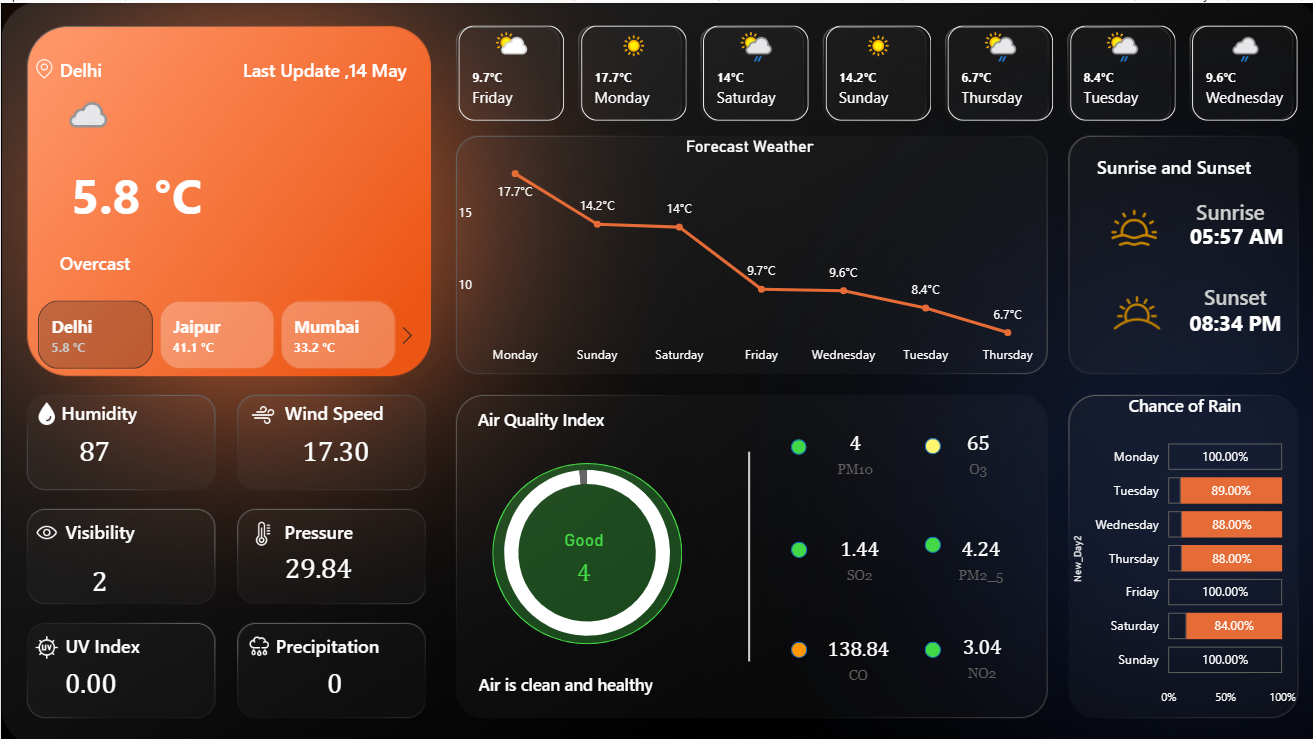

This screenshot's page, from the dashboard's own definition file:
{"tool":"powerbi","page":{"name":"Page 1","canvas":[1280,720],"ordinal":0},"visuals":[{"type":"shape","box":[474.1,444,183.4,174.9],"z":0},{"type":"advancedSlicerVisual","fields":{"Values":["Locations.location.name"]},"box":[11,282.7,396.6,76.8],"z":1000},{"type":"shape","box":[0,135.8,262.1,96.1],"z":2000},{"type":"shape","box":[56.3,231.9,279.9,37],"z":3000},{"type":"shape","box":[216.8,45.3,190.7,37],"z":4000},{"type":"shape","box":[56.3,45.3,179.8,37],"z":5000},{"type":"image","box":[32,52,18,23],"z":6000},{"type":"image","box":[49.4,82.3,70,52.1],"z":7000},{"type":"shape","box":[17.8,498.1,155.1,24.7],"z":8000},{"type":"shape","box":[31.6,384.2,127,24],"z":9000},{"type":"shape","box":[241.5,384.2,160.5,22],"z":10000},{"type":"shape","box":[229,498.1,155.1,24.7],"z":11000},{"type":"shape","box":[21,607.9,155.1,24.7],"z":12000},{"type":"shape","box":[237.4,607.9,155.1,24.7],"z":13000},{"type":"image","box":[33,383,23,28],"z":14000},{"type":"image","box":[241.5,384.2,23.3,27.4],"z":15000},{"type":"image","box":[32.9,496.7,23.3,27.4],"z":16000},{"type":"image","box":[241.5,498.1,23.3,27.4],"z":17000},{"type":"image","box":[32.9,607.9,23.3,27.4],"z":18000},{"type":"image","box":[237.4,606.5,23.3,27.4],"z":19000},{"type":"card","fields":{"Values":["Sum(Current.current.wind_kph)"]},"box":[264.2,383.6,118.2,97.7],"z":20000},{"type":"card","fields":{"Values":["Sum(Current.current.pressure_in)"]},"box":[247.3,497.1,118.2,97.7],"z":21000},{"type":"card","fields":{"Values":["Sum(Current.current.vis_km)"]},"box":[36.2,509.1,118.2,97.7],"z":22000},{"type":"card","fields":{"Values":["Sum(Current.current.uv)"]},"box":[27.7,608,118.2,97.7],"z":23000},{"type":"card","fields":{"Values":["Sum(Current.current.precip_in)"]},"box":[263,608,118.2,97.7],"z":24000},{"type":"card","fields":{"Values":["Sum(Current.current.humidity)"]},"box":[31.4,383.6,118.2,97.7],"z":25000},{"type":"advancedSlicerVisual","fields":{"Values":["Forecast_Day.New_Day"]},"box":[437,17,821,102],"z":26000},{"type":"lineChart","title":"Forecast Weather","fields":{"Y":["Sum(Forecast_Day.forecast.forecastday.day.avgtemp_c)"],"Category":["Forecast_Day.Day_name"]},"box":[436.7,129,571.9,229],"z":27000},{"type":"shape","box":[1054.4,144.8,155.6,25.3],"z":28000},{"type":"shape","box":[1120.8,203,143.6,42.2],"z":29000},{"type":"shape","box":[1119.6,288,143.6,38.6],"z":30000},{"type":"shape","box":[1114.8,183.4,143.6,33.8],"z":31000},{"type":"shape","box":[1140.1,268.3,102.5,31.4],"z":32000},{"type":"image","box":[1067.7,195.4,51.9,43.4],"z":33000},{"type":"image","box":[1054.4,269,84.5,60.3],"z":34000},{"type":"hundredPercentStackedBarChart","title":"Chance of Rain","fields":{"Category":["Forecast_Day.New_Day2"],"Y":["Measure.Left_Value_day","Sum(Forecast_Day.forecast.forecastday.day.daily_chance_of_rain)"]},"box":[1030,378,224.4,310],"z":35000},{"type":"card","fields":{"Values":["Sum(Current.current.air_quality.pm10)"]},"box":[769.7,390.9,109.8,84.5],"z":36000},{"type":"card","fields":{"Values":["Sum(Current.current.air_quality.so2)"]},"box":[769.7,497.1,118.2,76],"z":37000},{"type":"card","fields":{"Values":["Sum(Current.current.air_quality.o3)"]},"box":[887.9,390.9,111,84.5],"z":38000},{"type":"card","fields":{"Values":["Sum(Current.current.air_quality.pm2_5)"]},"box":[887,497.1,118.2,76],"z":39000},{"type":"card","fields":{"Values":["Sum(Current.current.air_quality.co)"]},"box":[769,593.6,118.2,76],"z":40000},{"type":"card","fields":{"Values":["Sum(Current.current.air_quality.no2)"]},"box":[887.9,592.4,118.2,76],"z":41000},{"type":"shape","box":[763,421,15,15],"z":42000},{"type":"shape","box":[763,520,15.7,15.7],"z":43000},{"type":"shape","box":[763,616.5,15.7,15.7],"z":44000},{"type":"shape","box":[891,419.8,15.7,15.7],"z":45000},{"type":"shape","box":[891,515.2,15.7,15.7],"z":46000},{"type":"shape","box":[891,616.5,15.7,15.7],"z":47000},{"type":"shape","box":[704.6,433.1,35,202.7],"z":48000},{"type":"card","fields":{"Values":["Sum(Current.current.air_quality.pm10)"]},"box":[504.3,507.9,117,65.1],"z":49000},{"type":"donutChart","fields":{"Y":["Measure.Left_Value_PM10","Sum(Current.current.air_quality.pm10)"]},"box":[439.1,425.9,253.4,209.9],"z":50000},{"type":"shape","box":[436.7,382.4,168.9,37.4],"z":50001},{"type":"shape","box":[460.9,638.2,243.7,37.4],"z":50002}]}

Visuals, with their boxes in screenshot pixels (x1, y1, x2, y2), scaled from the page's 1280x720 canvas onto the 1313x739 screenshot:
shape: left=486, top=456, right=674, bottom=635
advancedSlicerVisual - Locations.location.name: left=11, top=290, right=418, bottom=369
shape: left=0, top=139, right=269, bottom=238
shape: left=58, top=238, right=345, bottom=276
shape: left=222, top=46, right=418, bottom=84
shape: left=58, top=46, right=242, bottom=84
image: left=33, top=53, right=51, bottom=77
image: left=51, top=84, right=122, bottom=138
shape: left=18, top=511, right=177, bottom=537
shape: left=32, top=394, right=163, bottom=419
shape: left=248, top=394, right=412, bottom=417
shape: left=235, top=511, right=394, bottom=537
shape: left=22, top=624, right=181, bottom=649
shape: left=244, top=624, right=403, bottom=649
image: left=34, top=393, right=57, bottom=422
image: left=248, top=394, right=272, bottom=422
image: left=34, top=510, right=58, bottom=538
image: left=248, top=511, right=272, bottom=539
image: left=34, top=624, right=58, bottom=652
image: left=244, top=623, right=267, bottom=651
card - Sum(Current.current.wind_kph): left=271, top=394, right=392, bottom=494
card - Sum(Current.current.pressure_in): left=254, top=510, right=375, bottom=610
card - Sum(Current.current.vis_km): left=37, top=523, right=158, bottom=623
card - Sum(Current.current.uv): left=28, top=624, right=150, bottom=724
card - Sum(Current.current.precip_in): left=270, top=624, right=391, bottom=724
card - Sum(Current.current.humidity): left=32, top=394, right=153, bottom=494
advancedSlicerVisual - Forecast_Day.New_Day: left=448, top=17, right=1290, bottom=122
"Forecast Weather" lineChart: left=448, top=132, right=1035, bottom=367
shape: left=1082, top=149, right=1241, bottom=175
shape: left=1150, top=208, right=1297, bottom=252
shape: left=1148, top=296, right=1296, bottom=335
shape: left=1144, top=188, right=1291, bottom=223
shape: left=1169, top=275, right=1275, bottom=308
image: left=1095, top=201, right=1148, bottom=245
image: left=1082, top=276, right=1168, bottom=338
"Chance of Rain" hundredPercentStackedBarChart: left=1057, top=388, right=1287, bottom=706
card - Sum(Current.current.air_quality.pm10): left=790, top=401, right=902, bottom=488
card - Sum(Current.current.air_quality.so2): left=790, top=510, right=911, bottom=588
card - Sum(Current.current.air_quality.o3): left=911, top=401, right=1025, bottom=488
card - Sum(Current.current.air_quality.pm2_5): left=910, top=510, right=1031, bottom=588
card - Sum(Current.current.air_quality.co): left=789, top=609, right=910, bottom=687
card - Sum(Current.current.air_quality.no2): left=911, top=608, right=1032, bottom=686
shape: left=783, top=432, right=798, bottom=448
shape: left=783, top=534, right=799, bottom=550
shape: left=783, top=633, right=799, bottom=649
shape: left=914, top=431, right=930, bottom=447
shape: left=914, top=529, right=930, bottom=545
shape: left=914, top=633, right=930, bottom=649
shape: left=723, top=445, right=759, bottom=653
card - Sum(Current.current.air_quality.pm10): left=517, top=521, right=637, bottom=588
donutChart - Measure.Left_Value_PM10 x Sum(Current.current.air_quality.pm10): left=450, top=437, right=710, bottom=653
shape: left=448, top=392, right=621, bottom=431
shape: left=473, top=655, right=723, bottom=693
